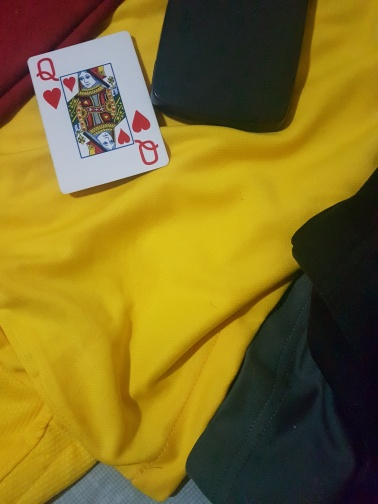queen: (26, 31, 172, 193)
